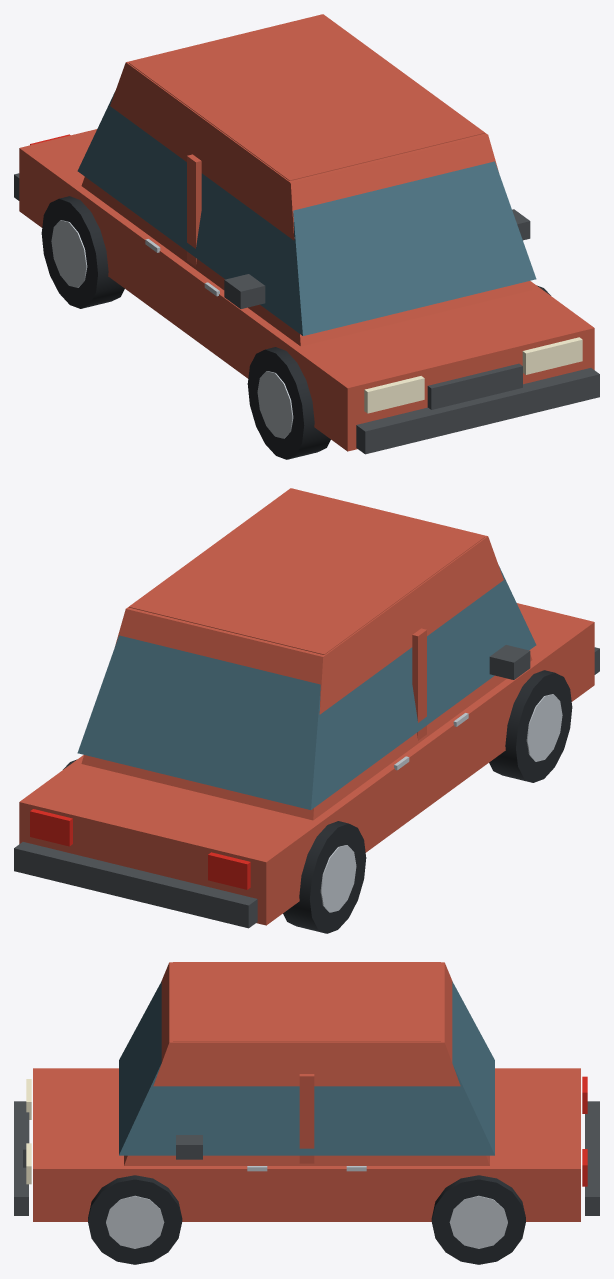
Rendered from suv.glb.
3 renders of one model, top to bottom at view 1: azimuth 30°, elevation 25°; view 2: azimuth 150°, elevation 25°; view 3: azimuth 270°, elevation 25°, orthographic. The views are drawn at different scales.
Visible parts, largest first — view 1: Body, Windows, FrontBumper, WheelFrontL, WheelRearL, Headlights, Grille, Mirrors; view 2: Body, Windows, RearBumper, WheelRearL, WheelFrontL, TailLights, Mirrors; view 3: Body, Windows, WheelFrontR, WheelRearR, RearBumper, FrontBumper, Mirrors, Headlights, TailLights.
Part boxes in pixels (<box>): Body: <box>19,14,594,451</box>; Windows: <box>77,92,536,335</box>; FrontBumper: <box>356,368,599,454</box>; WheelFrontL: <box>247,347,330,459</box>; WheelRearL: <box>41,196,124,308</box>; Headlights: <box>364,337,582,413</box>; Grille: <box>427,363,522,409</box>; Mirrors: <box>224,209,530,308</box>; Body: <box>19,488,594,925</box>; Windows: <box>77,566,536,809</box>; RearBumper: <box>14,842,257,928</box>; WheelRearL: <box>283,821,366,933</box>; WheelFrontL: <box>489,670,572,782</box>; TailLights: <box>30,809,250,889</box>; Mirrors: <box>489,645,530,679</box>; Body: <box>33,962,580,1221</box>; Windows: <box>119,981,494,1155</box>; WheelFrontR: <box>88,1175,182,1264</box>; WheelRearR: <box>431,1175,525,1264</box>; RearBumper: <box>585,1101,599,1215</box>; FrontBumper: <box>14,1101,28,1215</box>; Mirrors: <box>176,1135,202,1159</box>; Headlights: <box>26,1079,31,1184</box>; TailLights: <box>582,1076,587,1186</box>.
Bounding box in the file's own units: 2.25 × 1.86 × 4.73.
